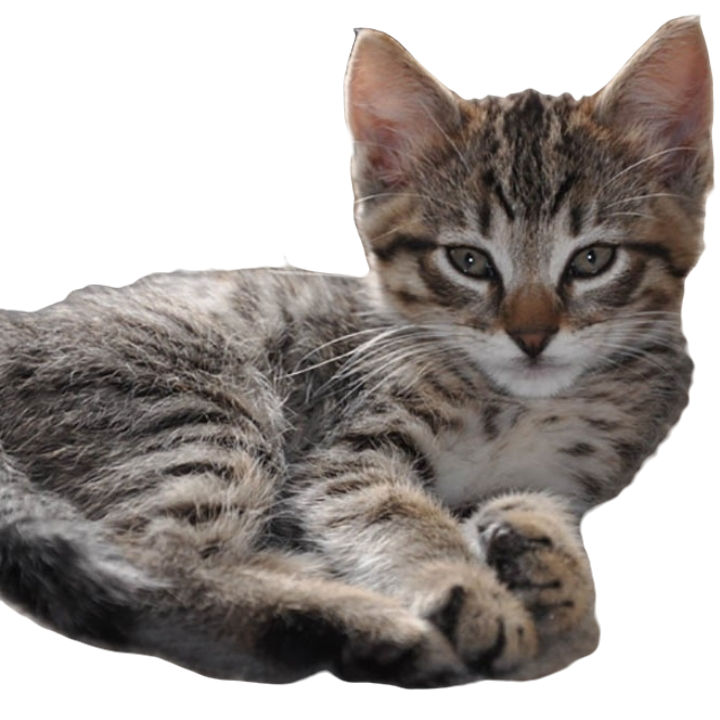Cat: (0, 14, 719, 684)
